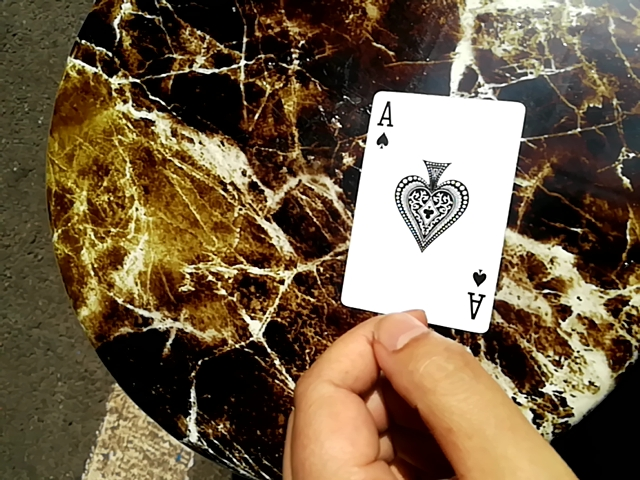ht a: (338, 91, 517, 335)
